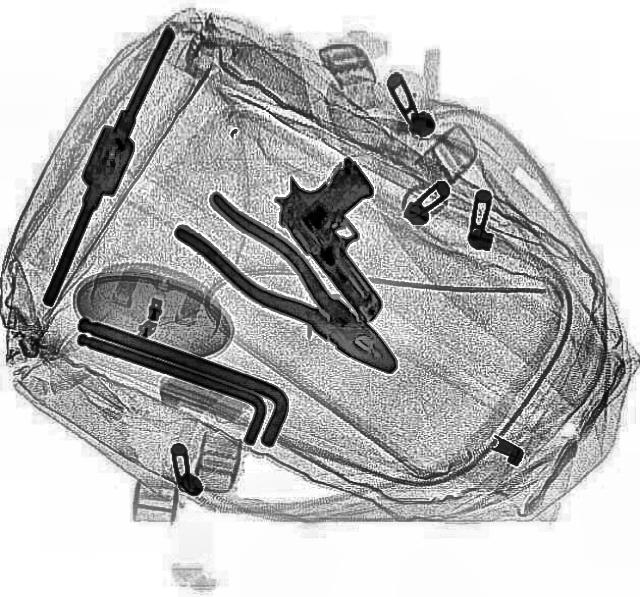Gun: (256, 148, 444, 326)
Pliers: (169, 187, 419, 391)
